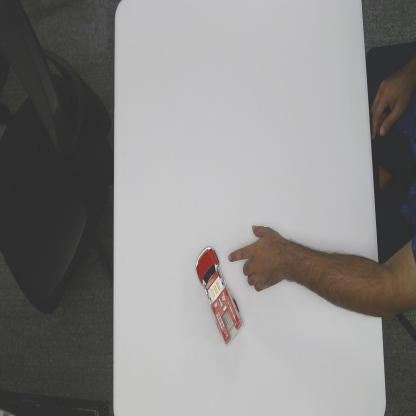Arm: (295, 231, 416, 321)
Firetruck: (194, 240, 244, 349)
Hand: (227, 220, 293, 294)
